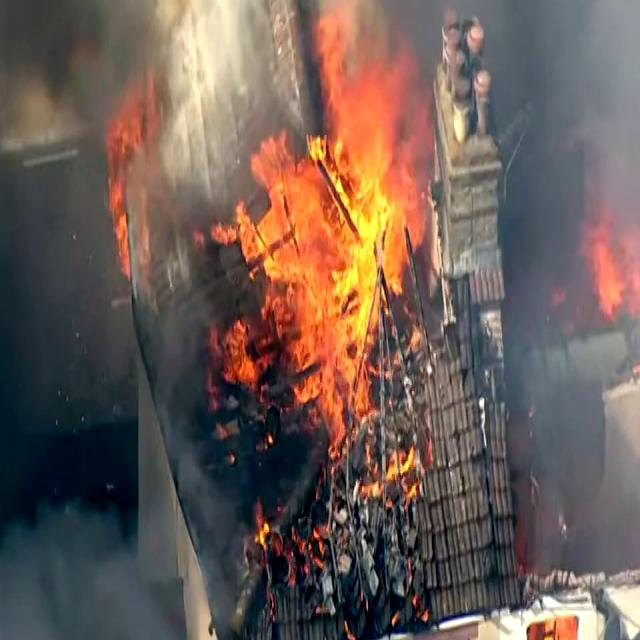fire: (230, 6, 426, 378), (583, 127, 640, 301)
